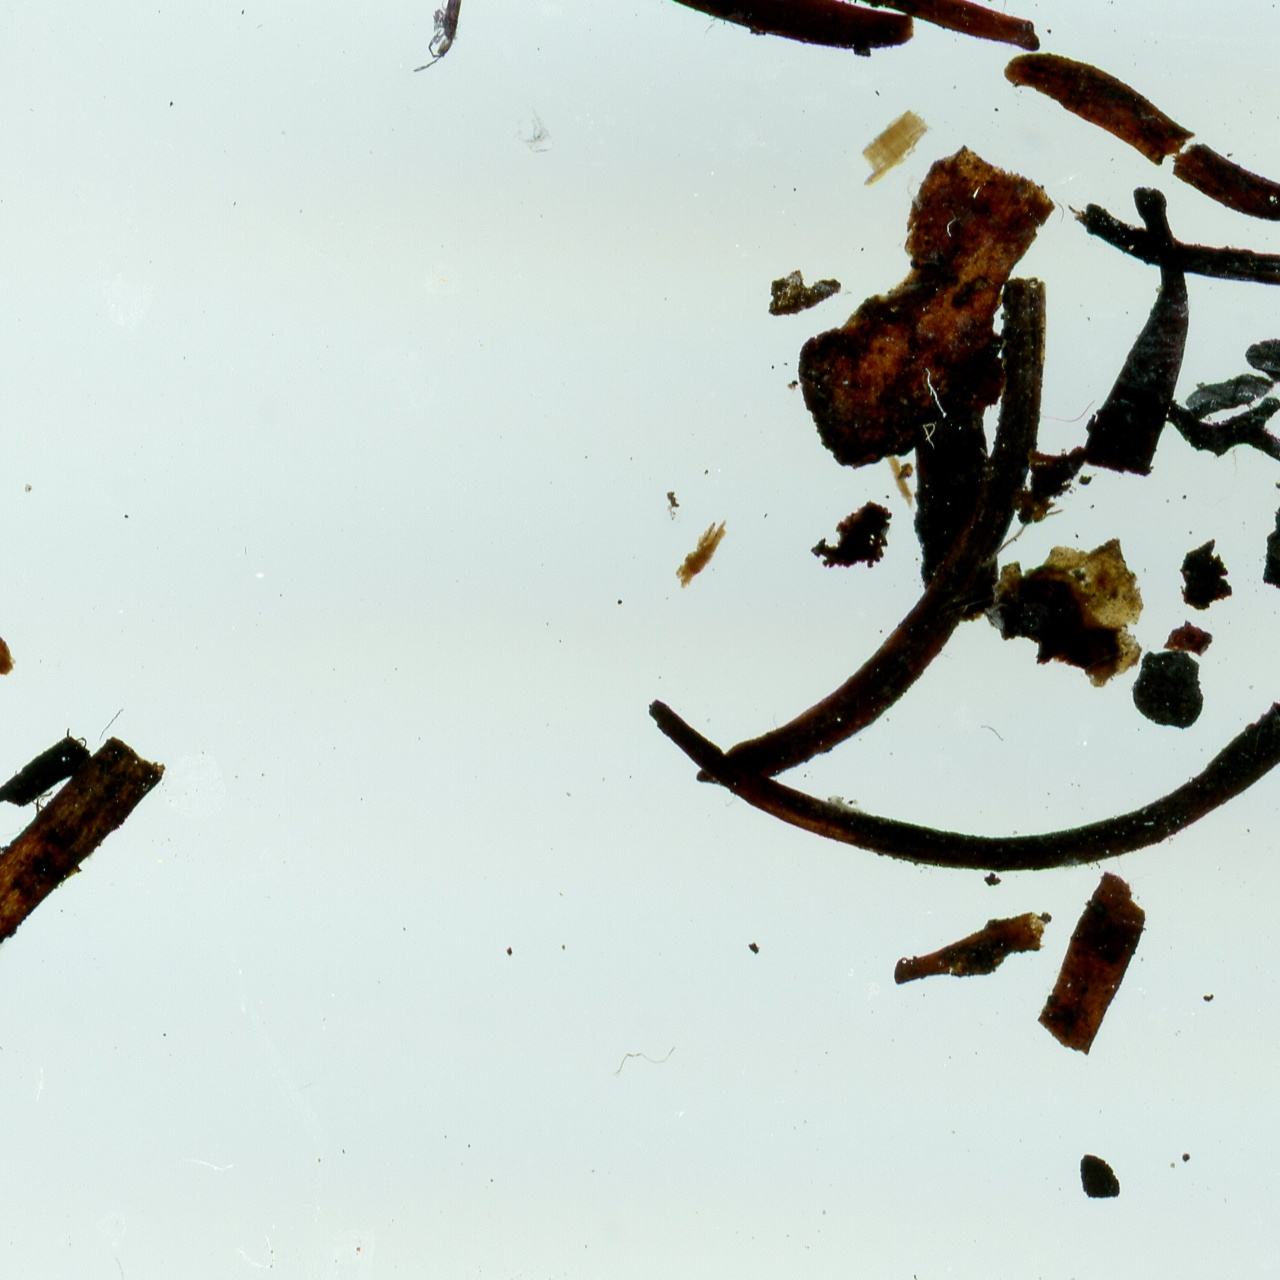arthropod: (403, 0, 470, 80)
